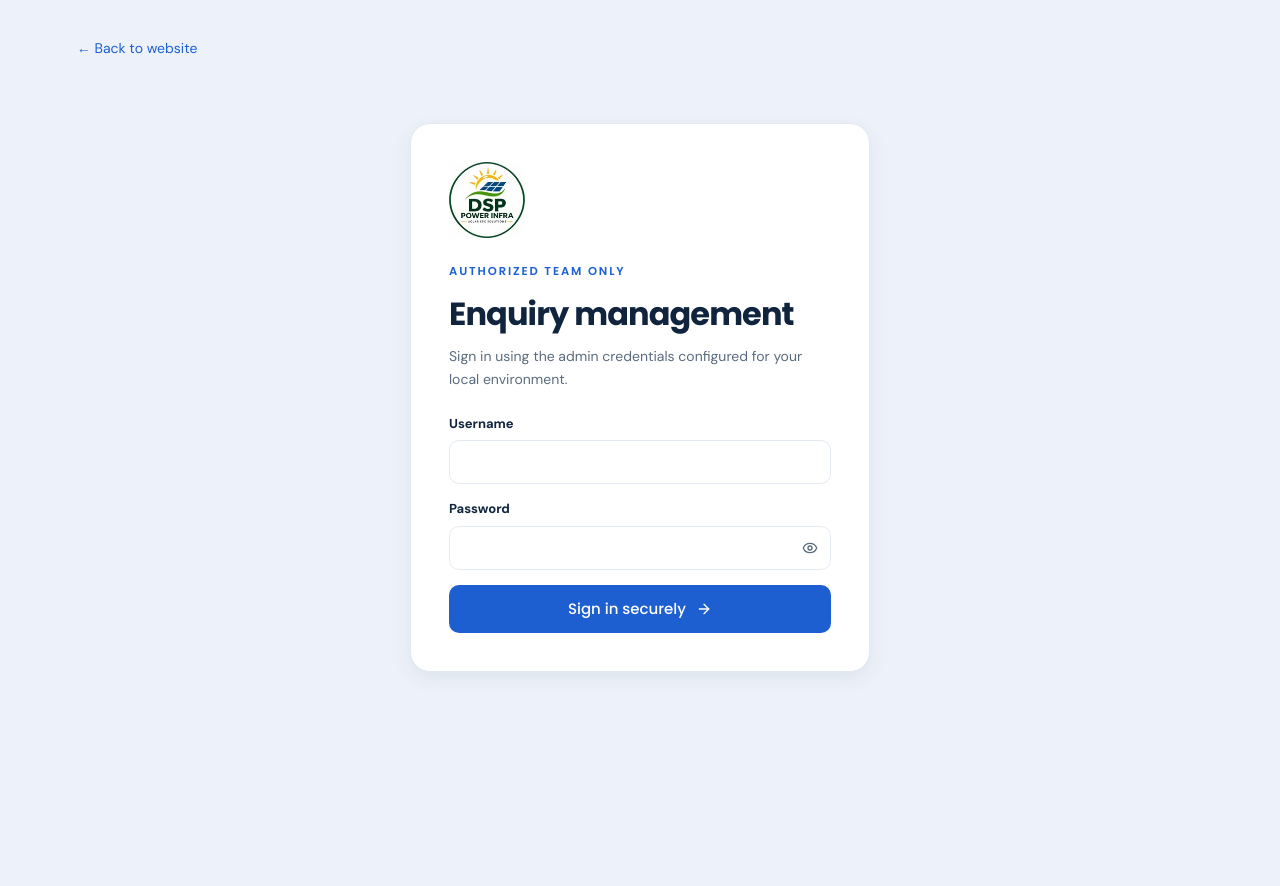
it: Admin enquiry desk › TC-ADMIN-10: bulk resolve posts the selected ids
Type "admin" into the field labelled "Username" at x=640, y=462, box [449,440,831,484]
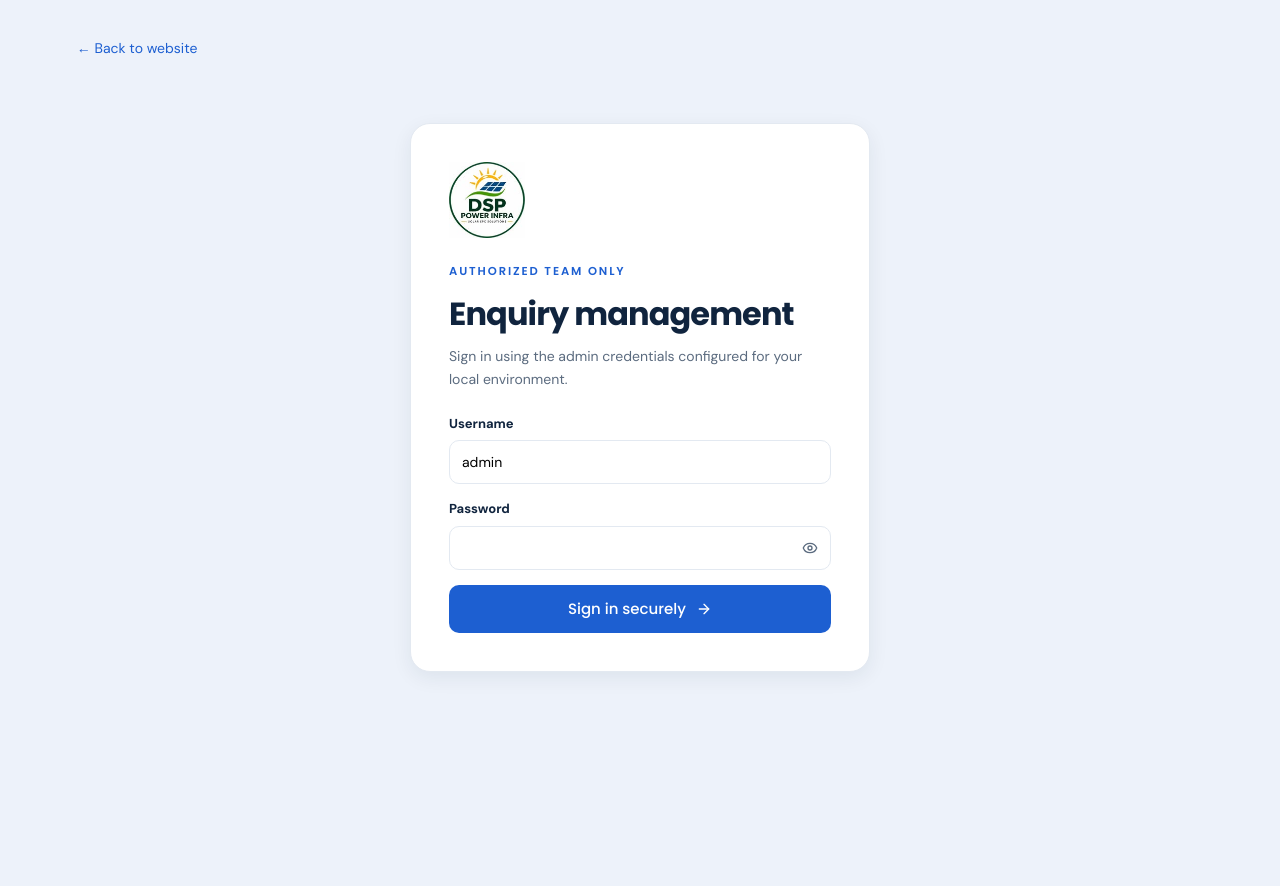
Type "local-dev-admin" into the password field labelled "Password" at x=640, y=548, box [449,526,831,570]
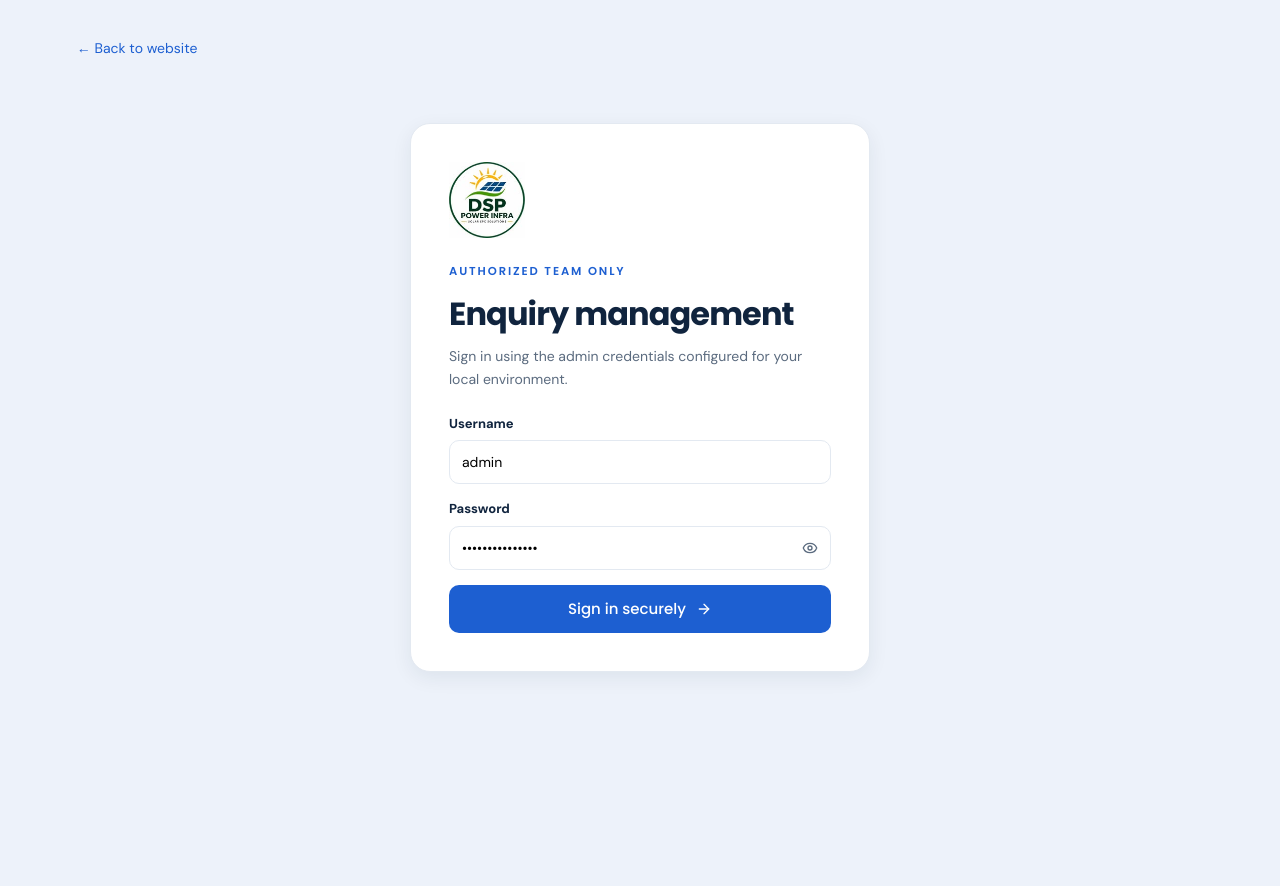
Click the button "Sign in securely" at x=640, y=609, box [449,585,831,633]
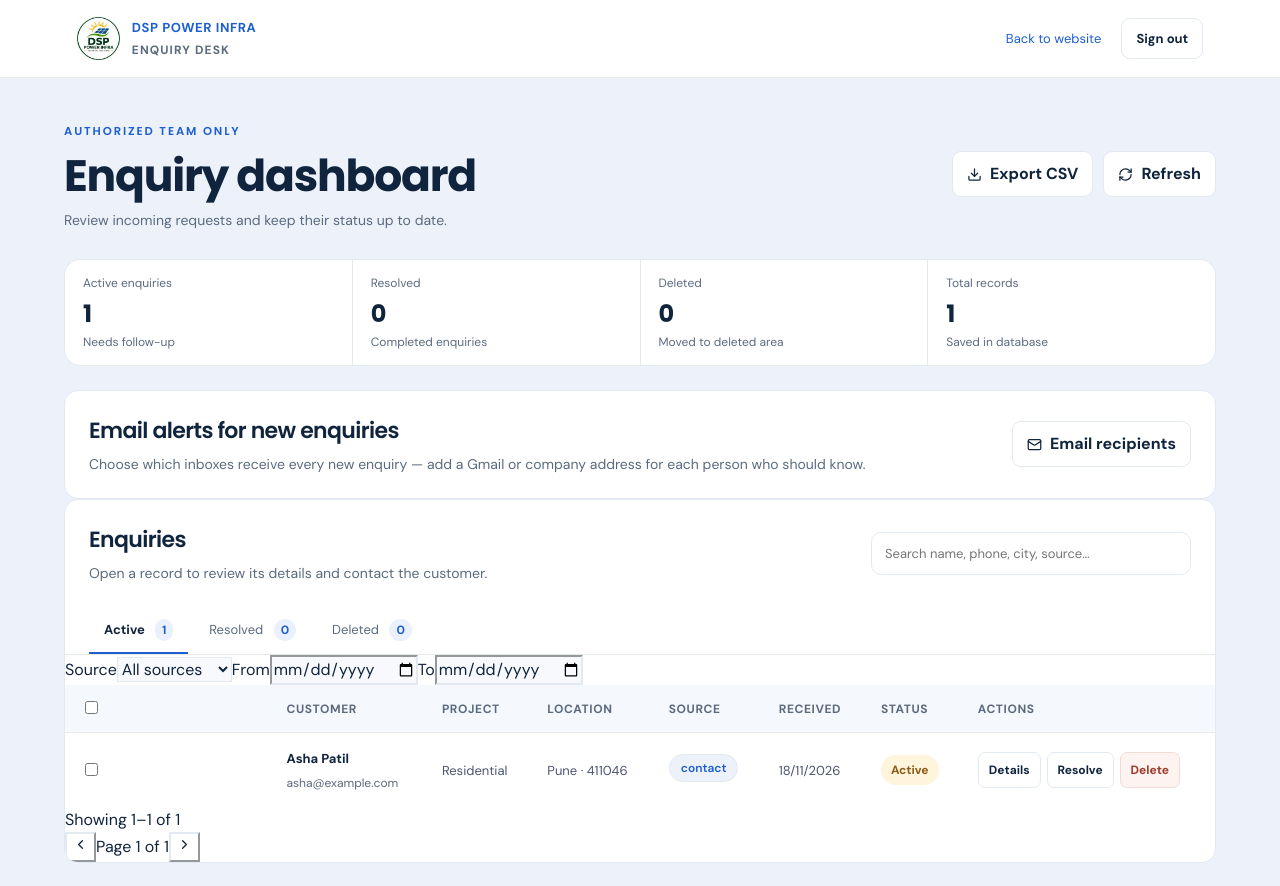
Check: the heading "Enquiry dashboard" is shown, box [64,152,476,200]
Click the checkbox named "select asha patil" at x=92, y=769, box [85,762,98,776]
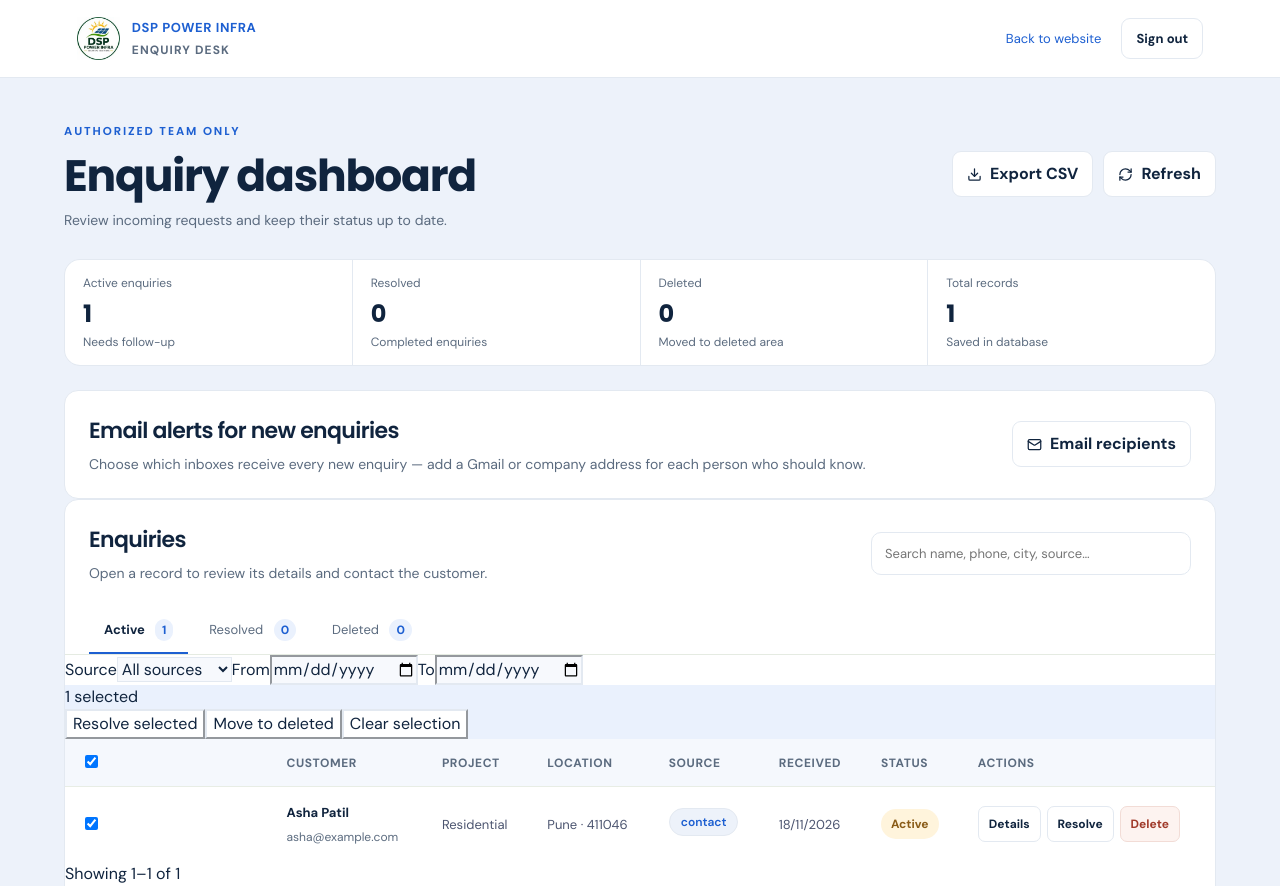
Check: the text "1 selected" is shown, box [65,686,138,707]
Click the button "Resolve selected" at x=135, y=724, box [65,709,206,739]
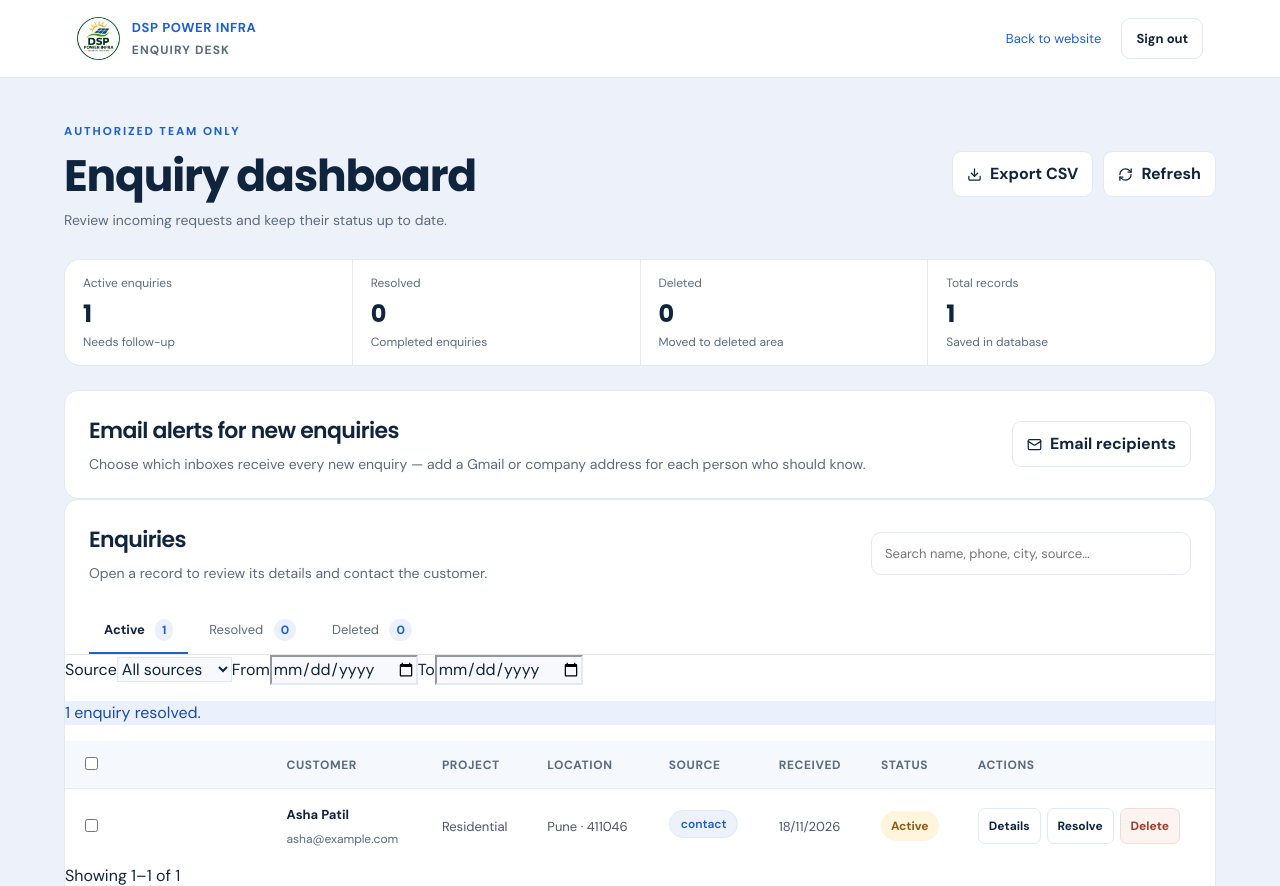
Check: the message shows "1 enquiry resolved", box [65,702,201,723]
